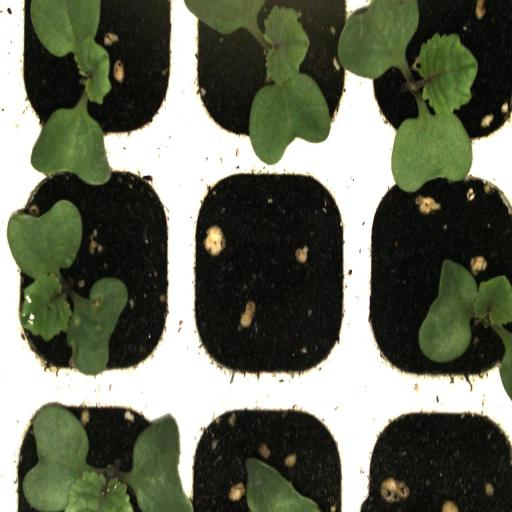Germinacao: (9, 158, 189, 384), (357, 160, 512, 389), (9, 0, 184, 157), (185, 0, 355, 159), (357, 0, 512, 158), (12, 389, 184, 512)
